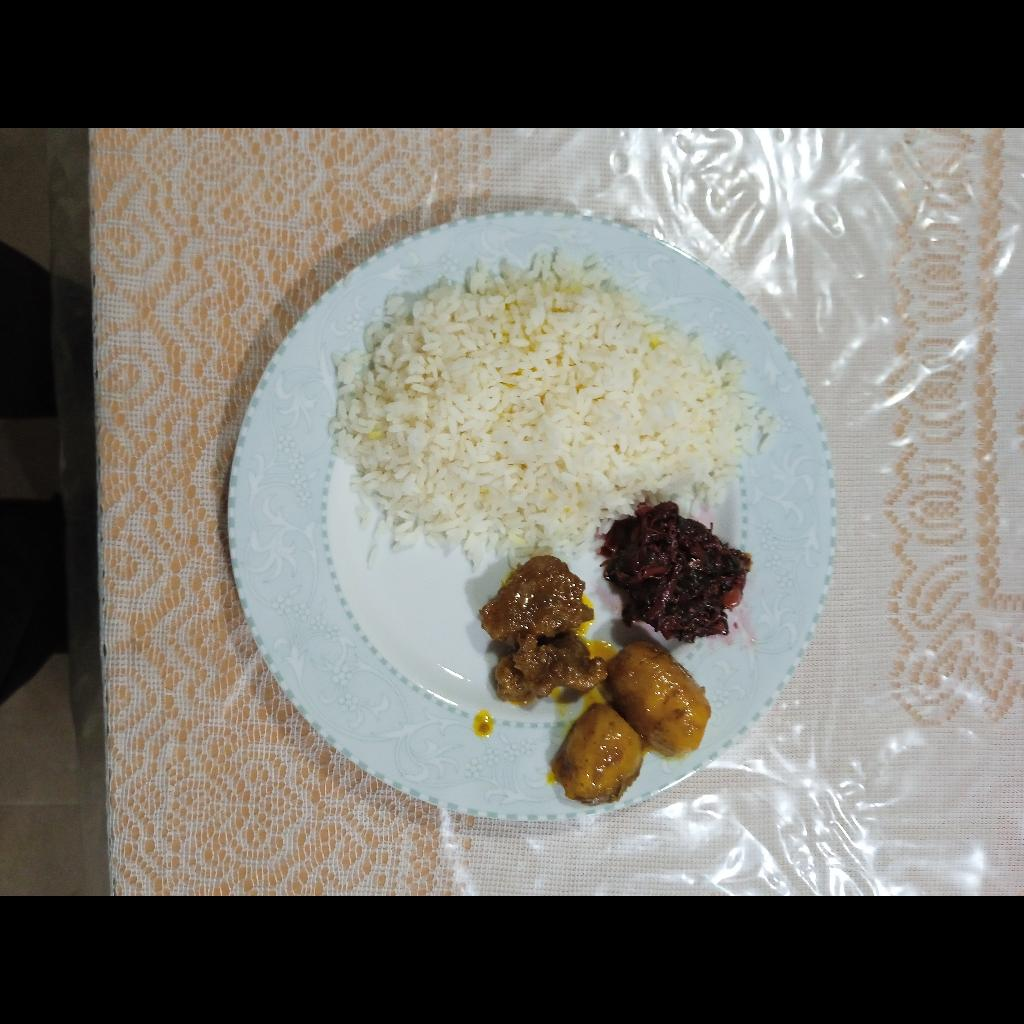beef: (481, 557, 605, 699)
potato: (552, 644, 707, 799)
rice: (327, 251, 772, 547)
shak: (605, 503, 749, 645)
